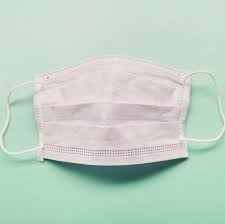mask: (33, 61, 191, 167)
